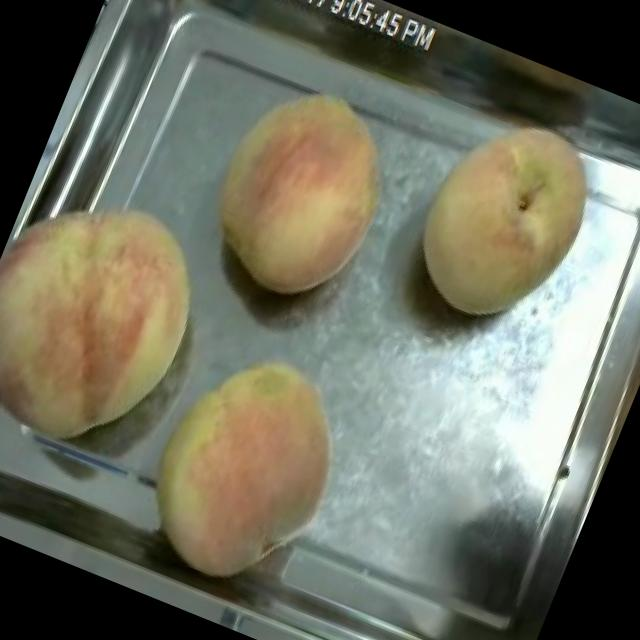Fruit: (105, 316, 378, 619), (0, 159, 234, 484), (177, 58, 423, 328), (382, 84, 624, 353)
